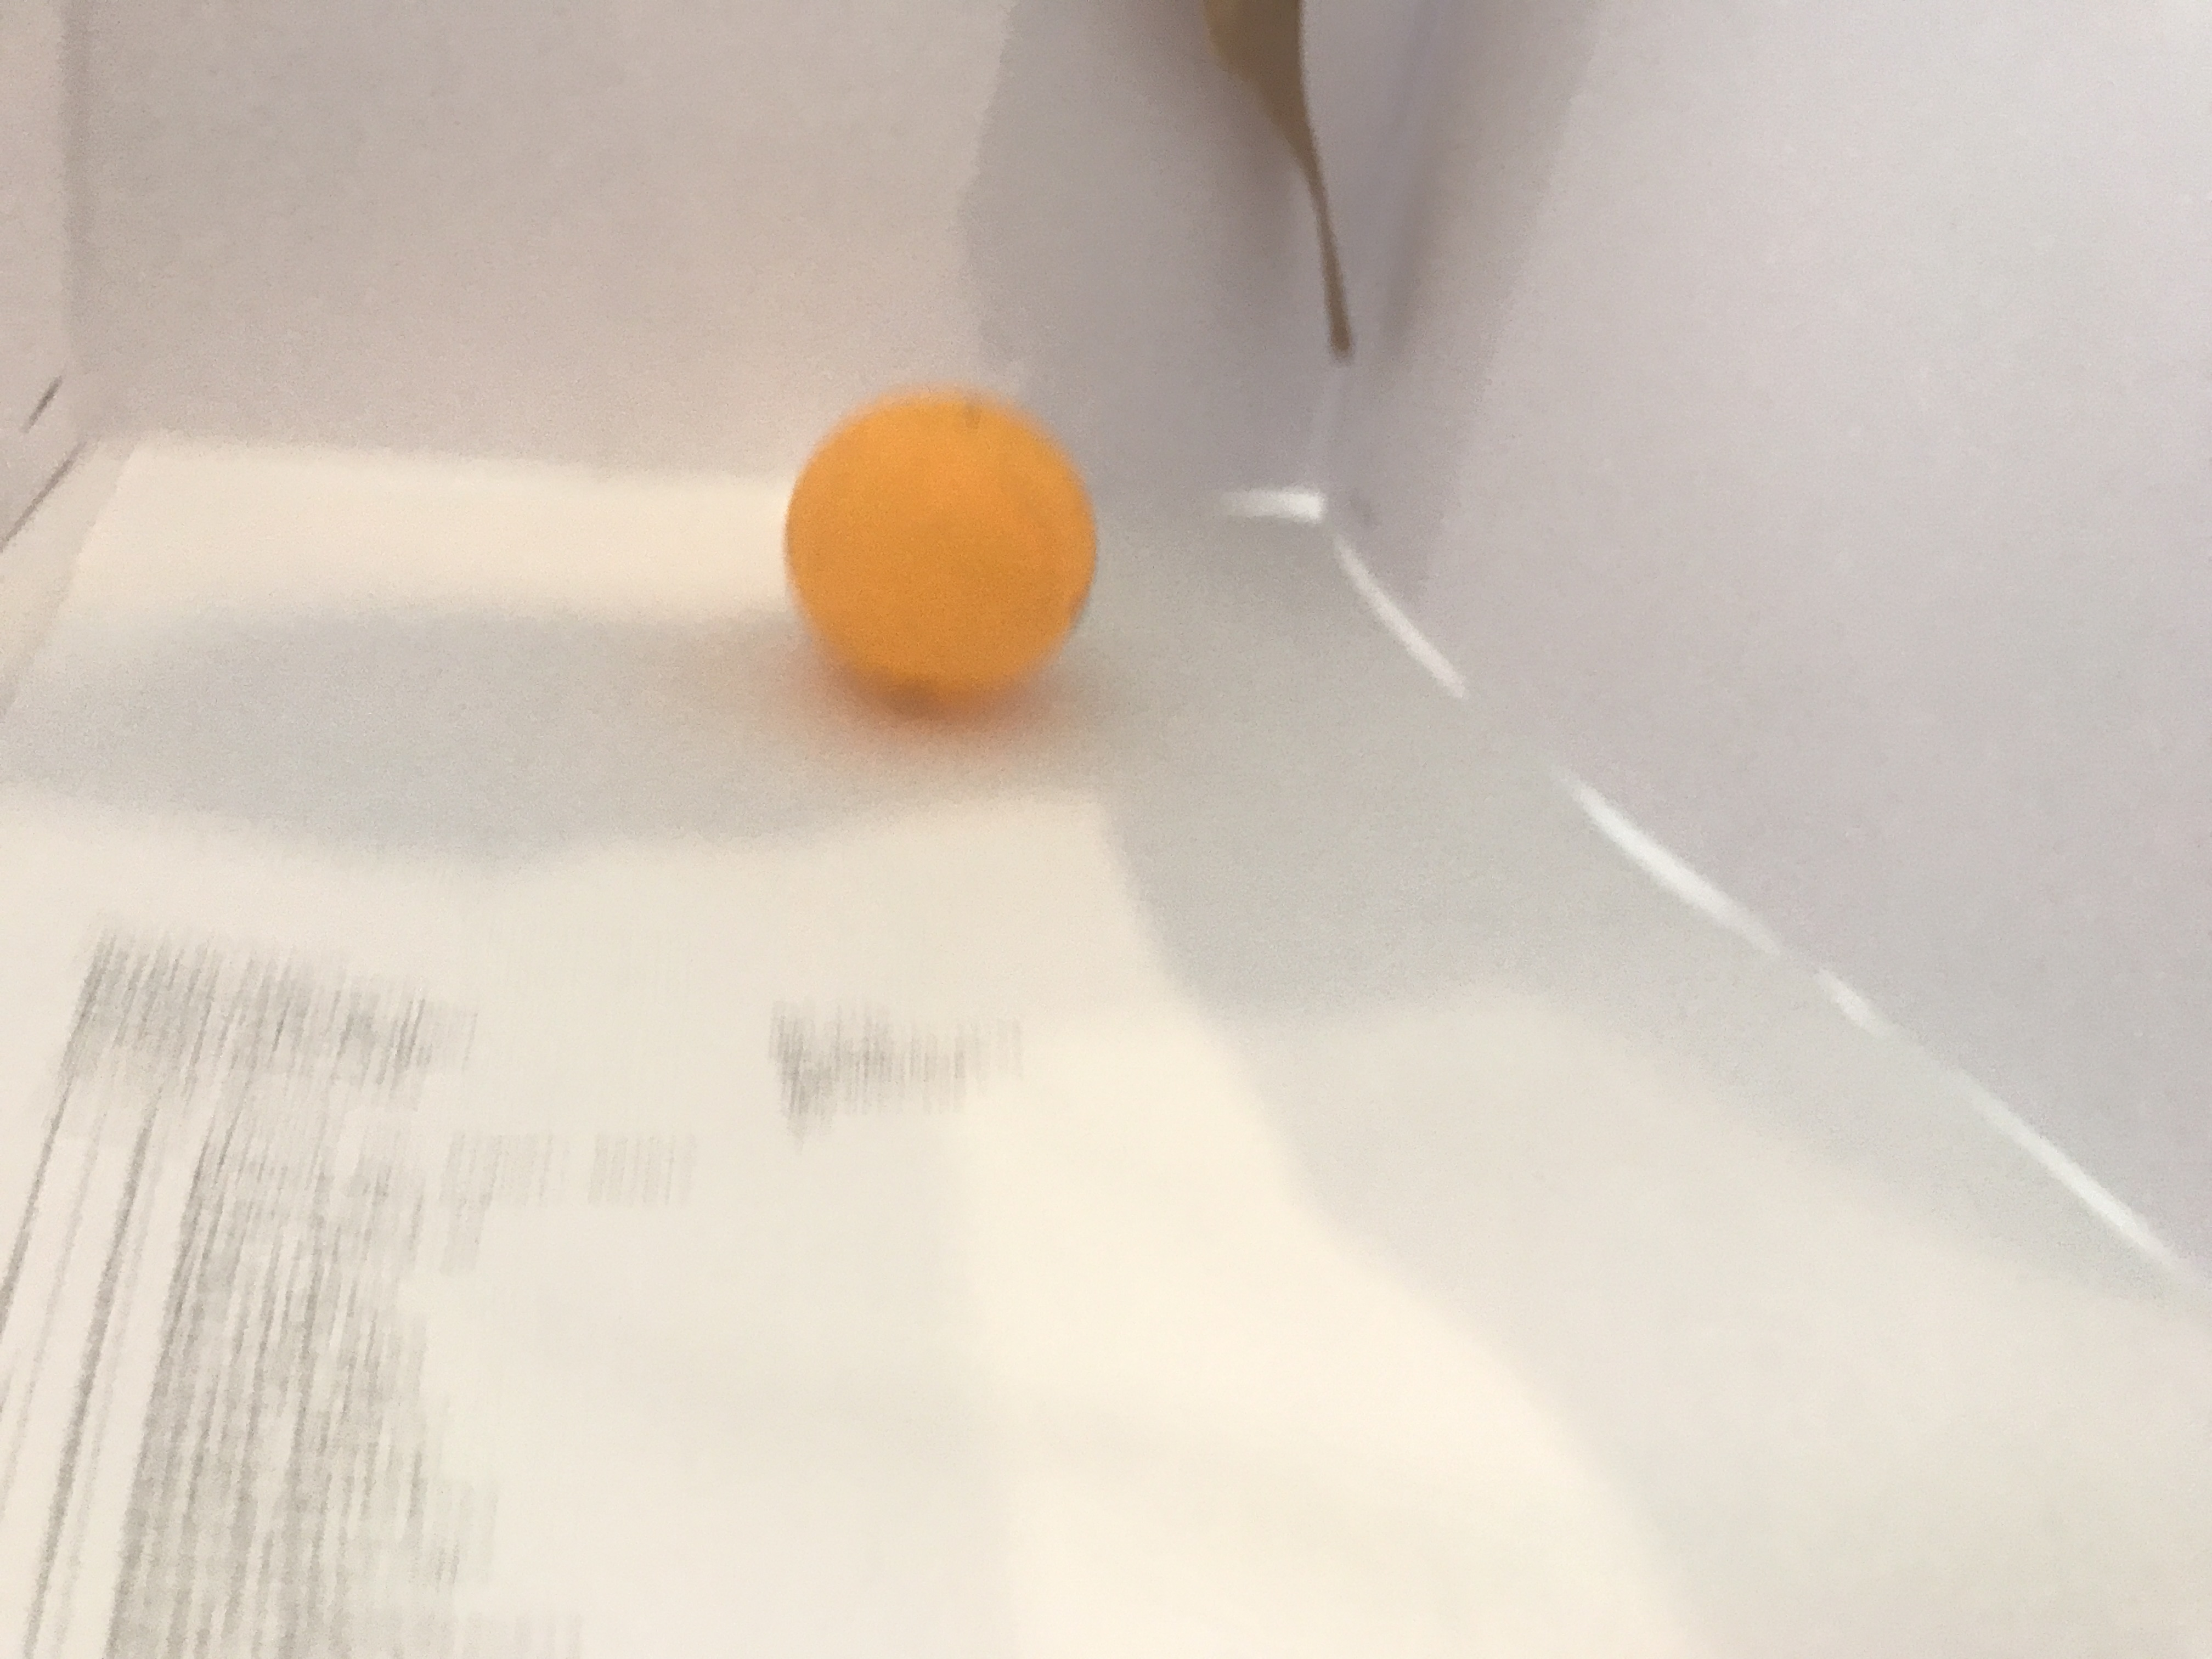pp: (786, 382, 1118, 732)
